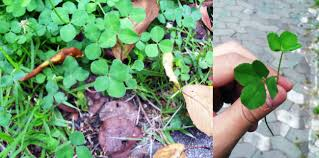4-clover: (234, 58, 278, 112), (92, 61, 129, 98)
